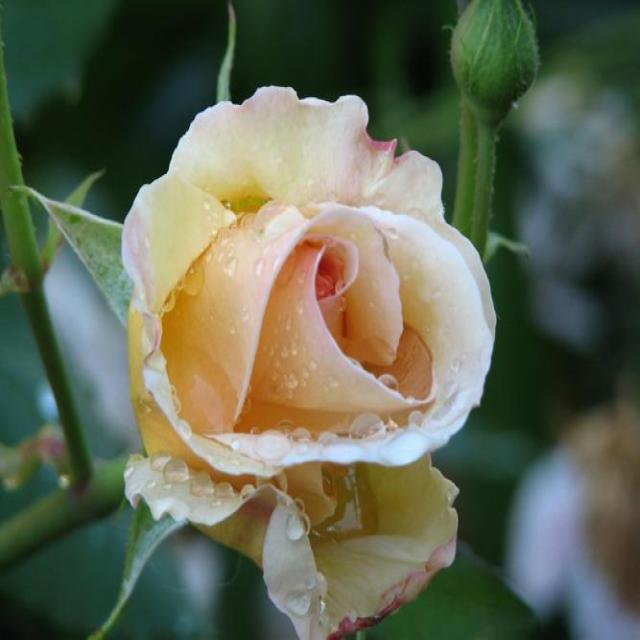rose: (81, 28, 532, 630)
